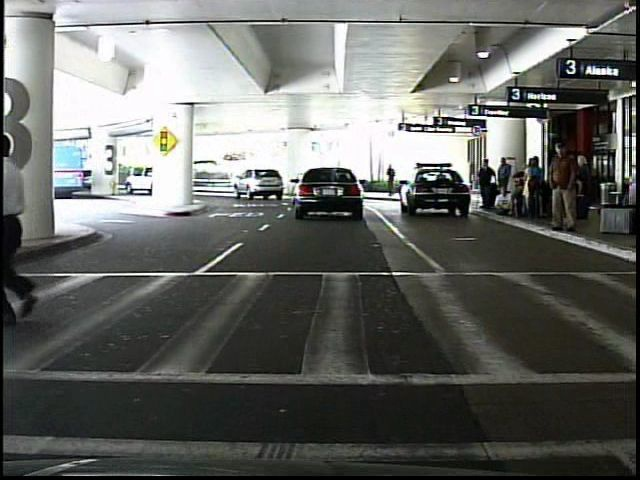person: (0, 123, 81, 327), (545, 141, 583, 237), (476, 159, 497, 214), (387, 164, 401, 200), (126, 163, 138, 188)
